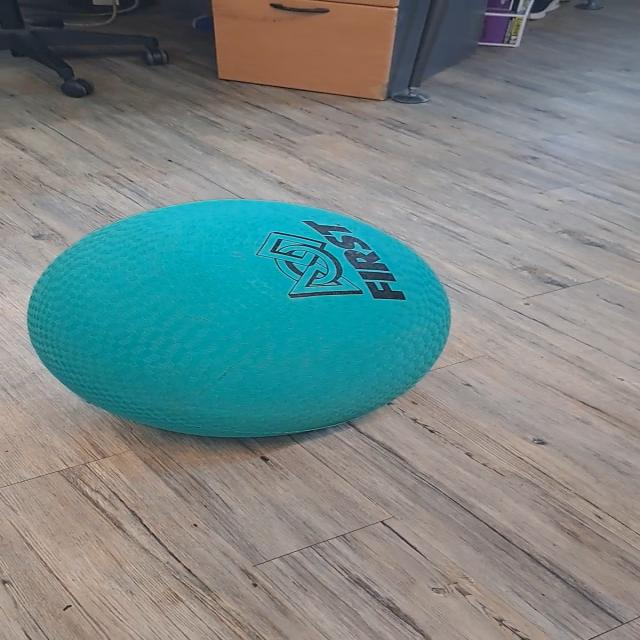ALGAE: (24, 197, 452, 439)
